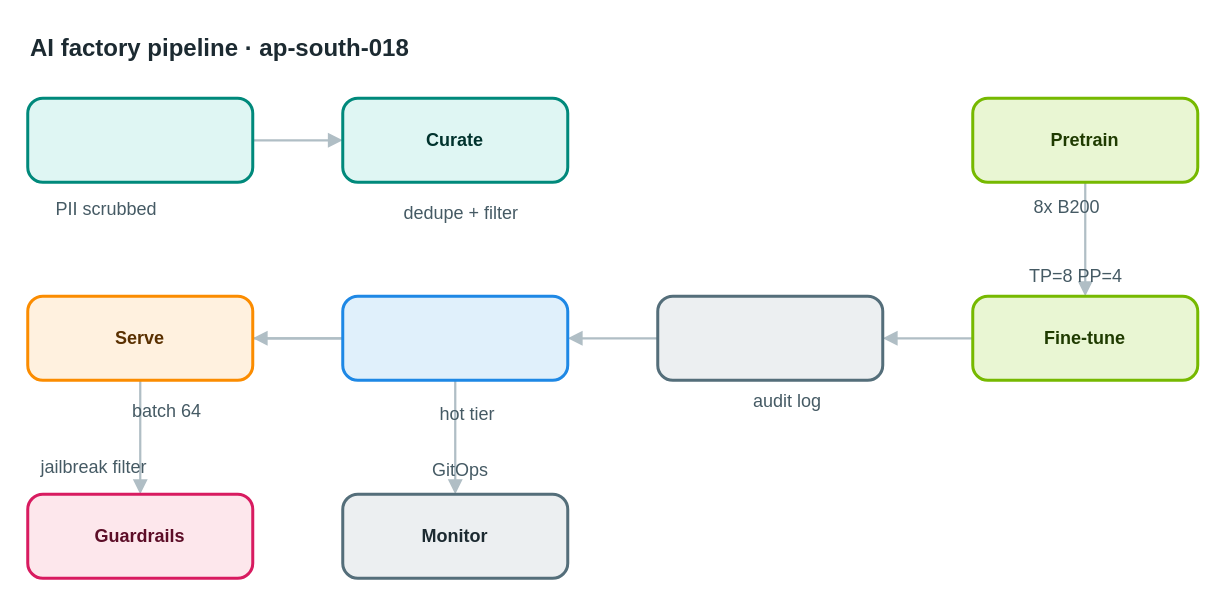
This 1224x605 diagram has some shape labels left out. The shapes that lost their labels are listed below. From the top down, each one's box as (x1, y1, x2, y2) in pixels, then its label:
(26, 96, 254, 183): Ingest
(340, 294, 568, 381): Model registry
(656, 294, 884, 381): Evaluate
